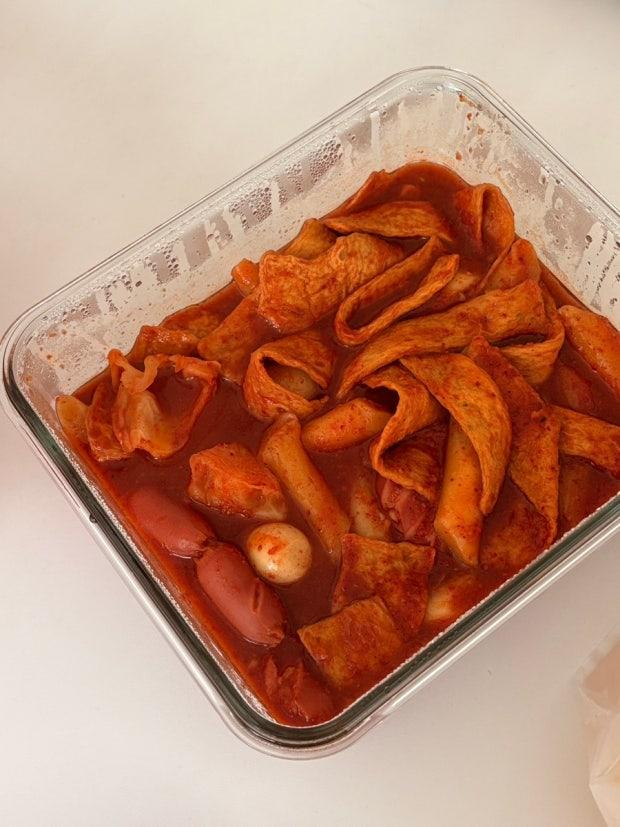Lunch Box: (0, 67, 619, 758)
